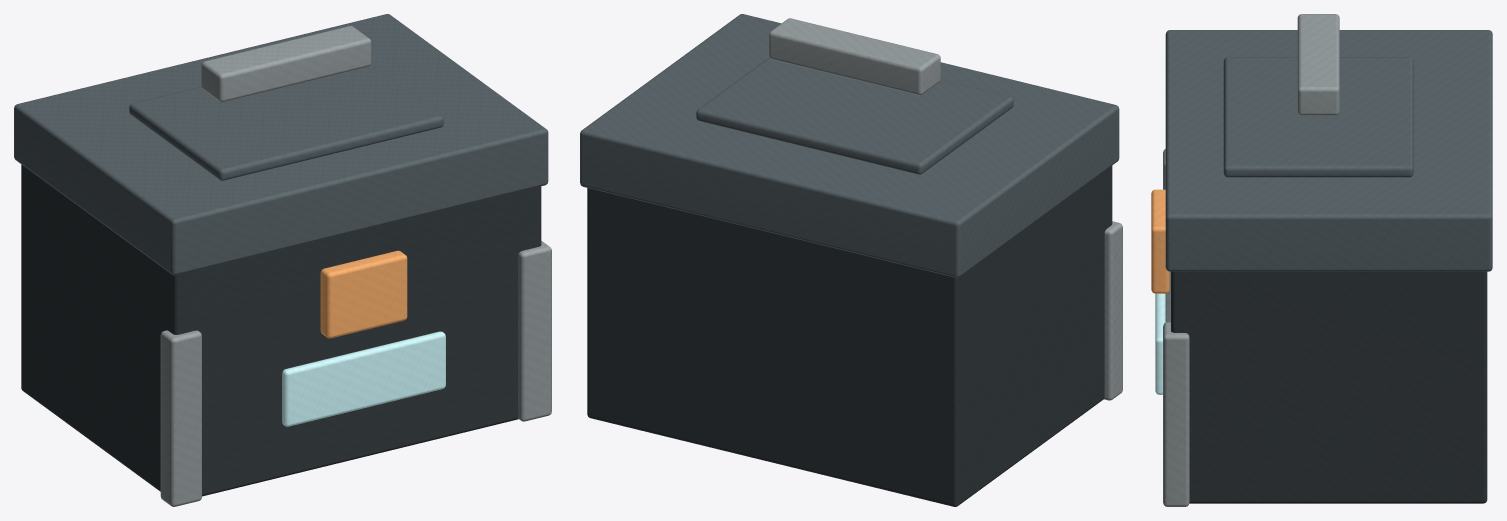
File: SpecimenTransportCase.glb
The picture shows the model from 3 angles, left to right: view 1: azimuth 30°, elevation 25°; view 2: azimuth 150°, elevation 25°; view 3: azimuth 270°, elevation 25°; orthographic projection.
Visible parts, largest first — view 1: SpecimenTransportCase_Mesh; view 2: SpecimenTransportCase_Mesh; view 3: SpecimenTransportCase_Mesh.
Boxes of the visible parts, x1=… form: SpecimenTransportCase_Mesh: x1=14, y1=14, x2=551, y2=506; SpecimenTransportCase_Mesh: x1=580, y1=14, x2=1122, y2=506; SpecimenTransportCase_Mesh: x1=1151, y1=14, x2=1492, y2=506.
Size of the model in its own units: 0.85 by 0.76 by 0.6475.
5 materials, 5 textured.
